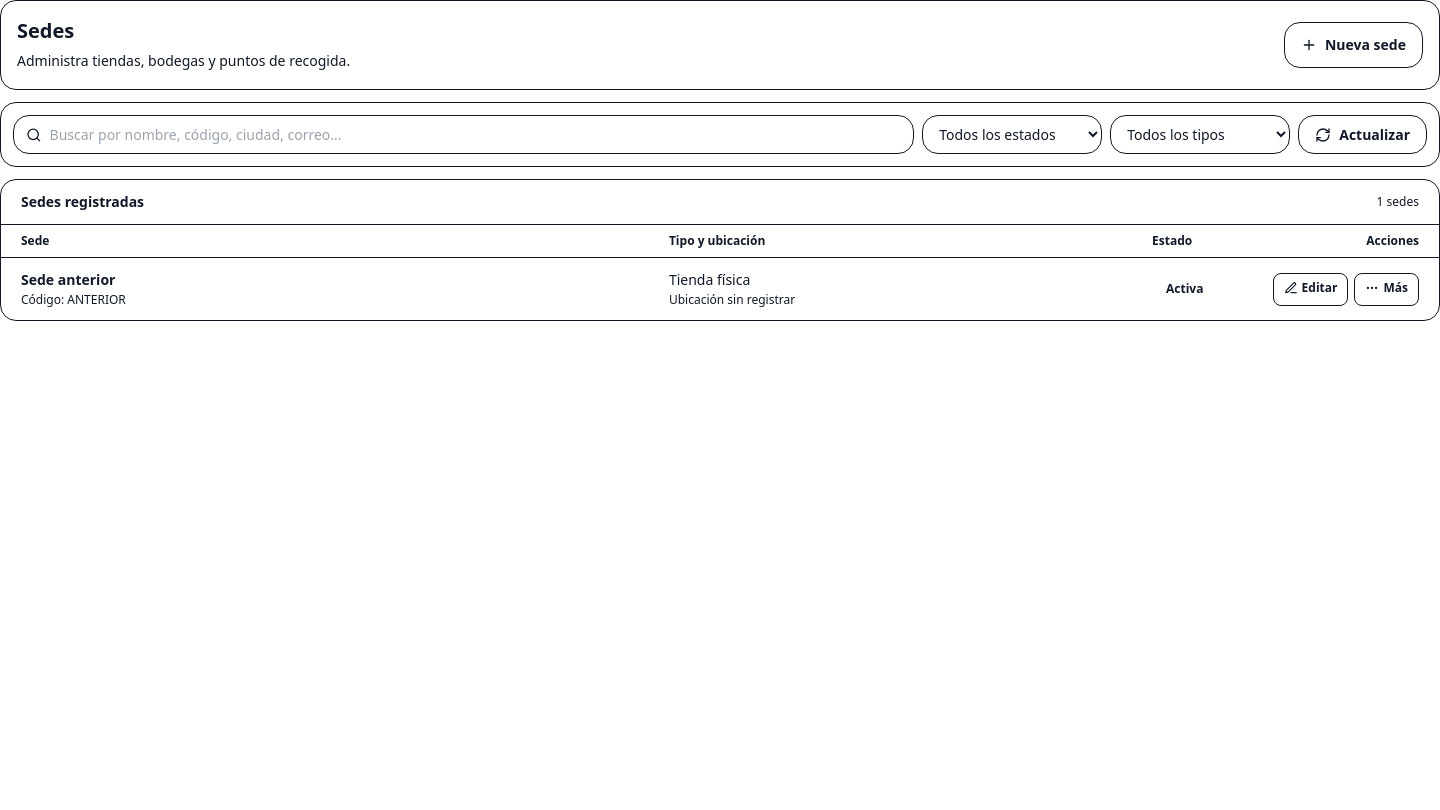
muestra inmediatamente la sede devuelta al guardar y reabre sus datos actualizados
Click the button with aria-label "Editar Sede anterior". click: point(1311, 289)
box: [1273,272,1348,306]
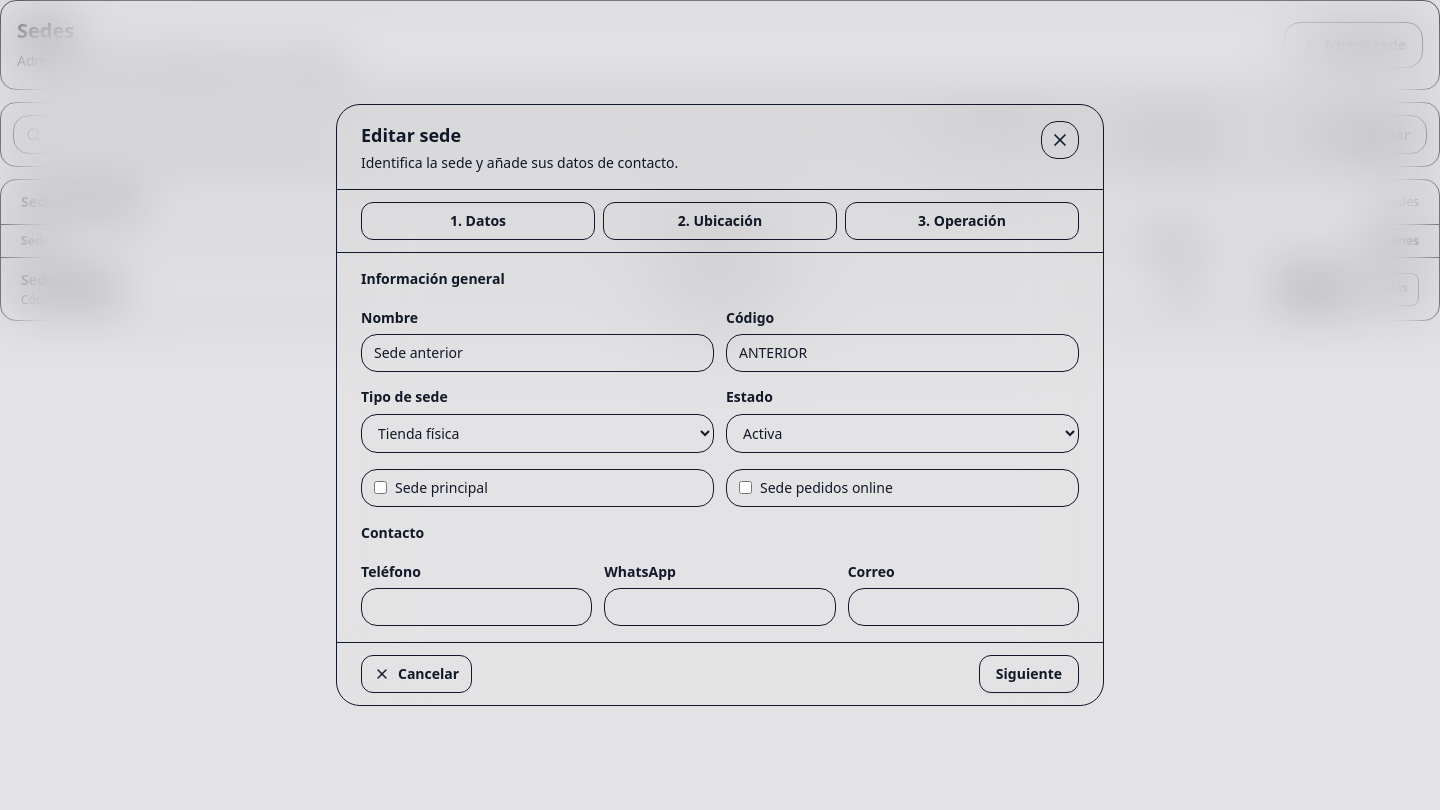
Replace the text in the field labelled "Nombre" with "Sede actualizada". click: point(538, 353)
box: [361,334,714,372]
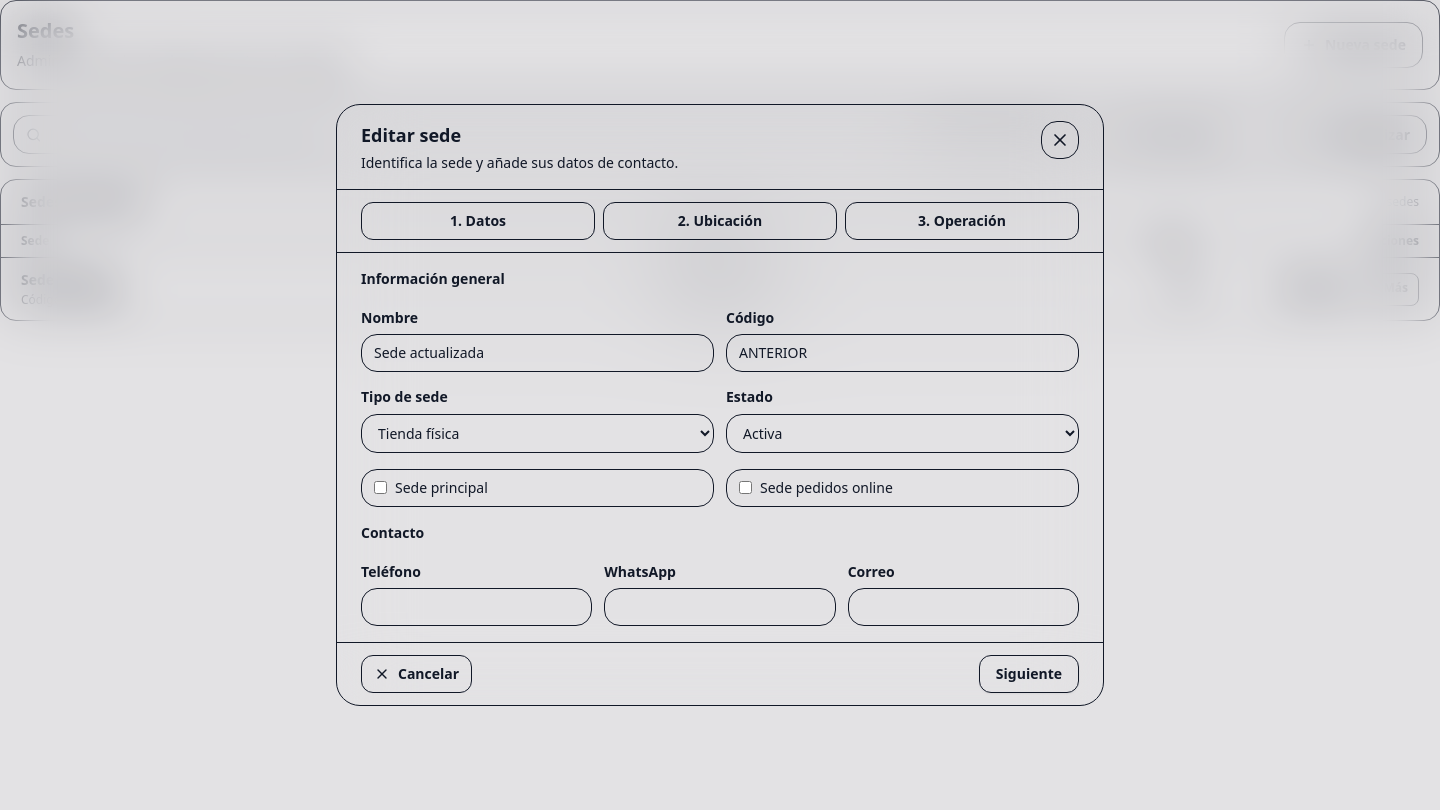
Click the button "3. Operación". click: point(962, 221)
box: [845,202,1079,240]
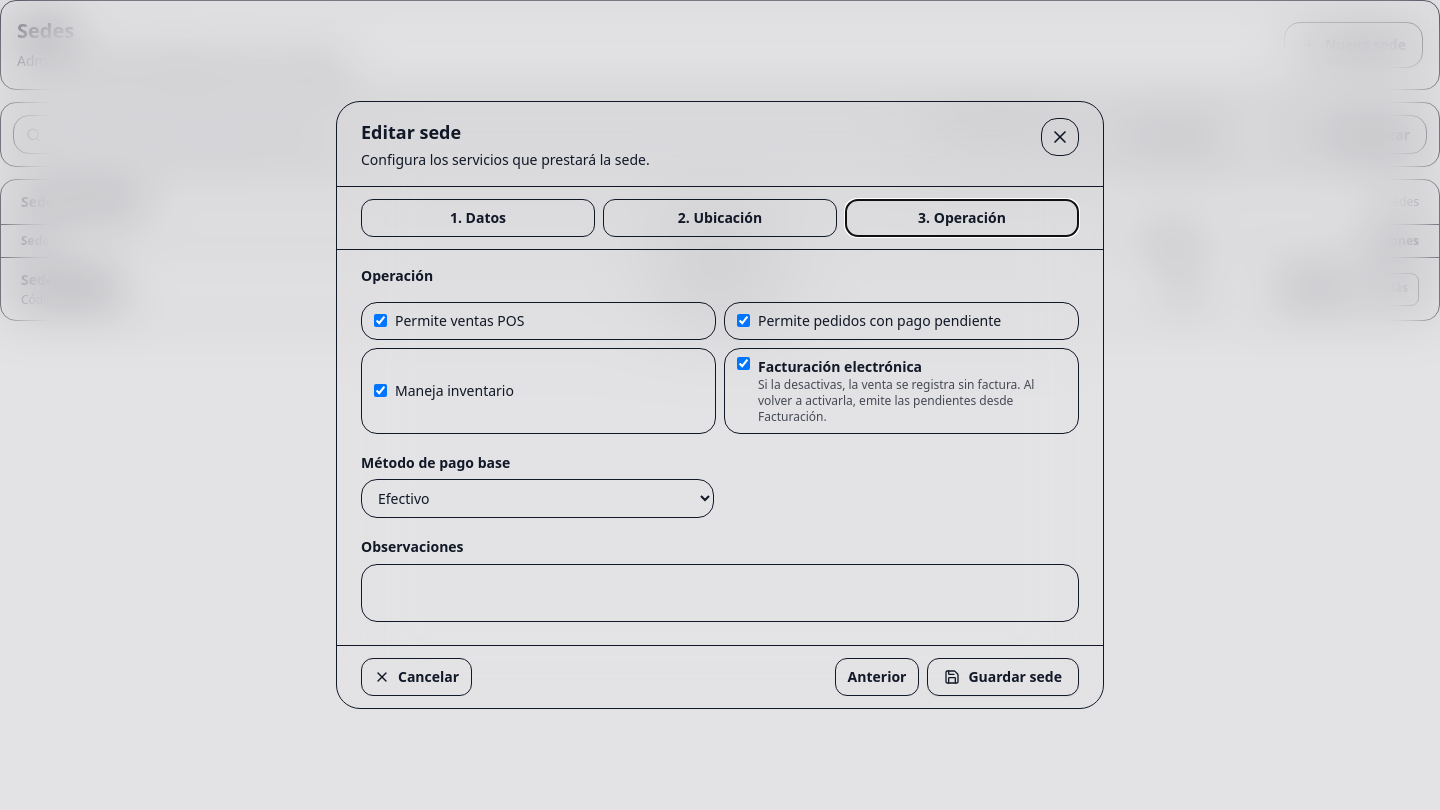
Click the button "Guardar sede". click: point(1003, 677)
box: [927,658,1079,696]
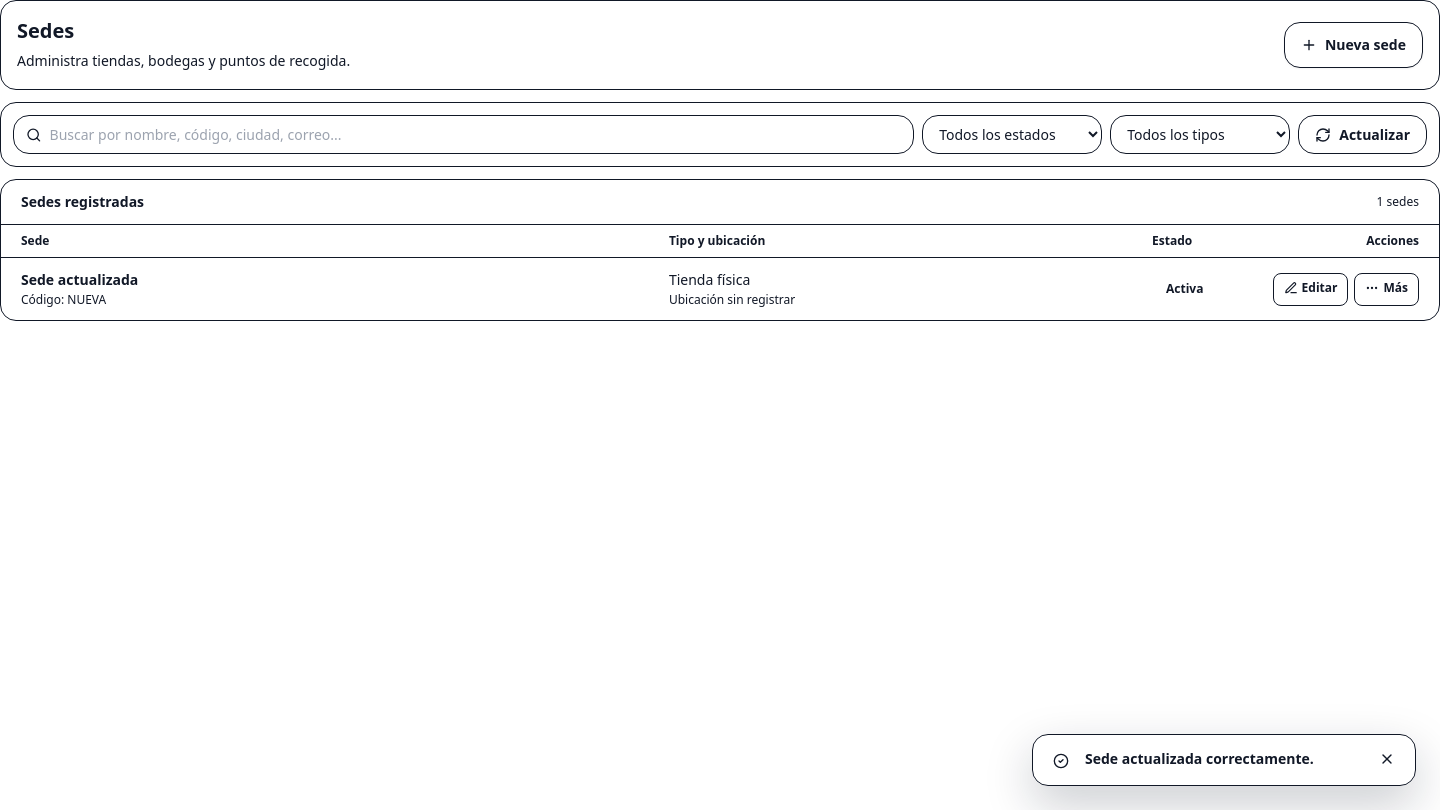
Result: the button with aria-label "Editar Sede actualizada" is shown
Result: the text "Código: NUEVA" is shown at [21,291,106,308]
Result: the message reads "Sede actualizada correctamente." at [1085,749,1314,768]
Click the button with aria-label "Editar Sede actualizada". click: point(1311, 289)
box: [1273,272,1348,306]
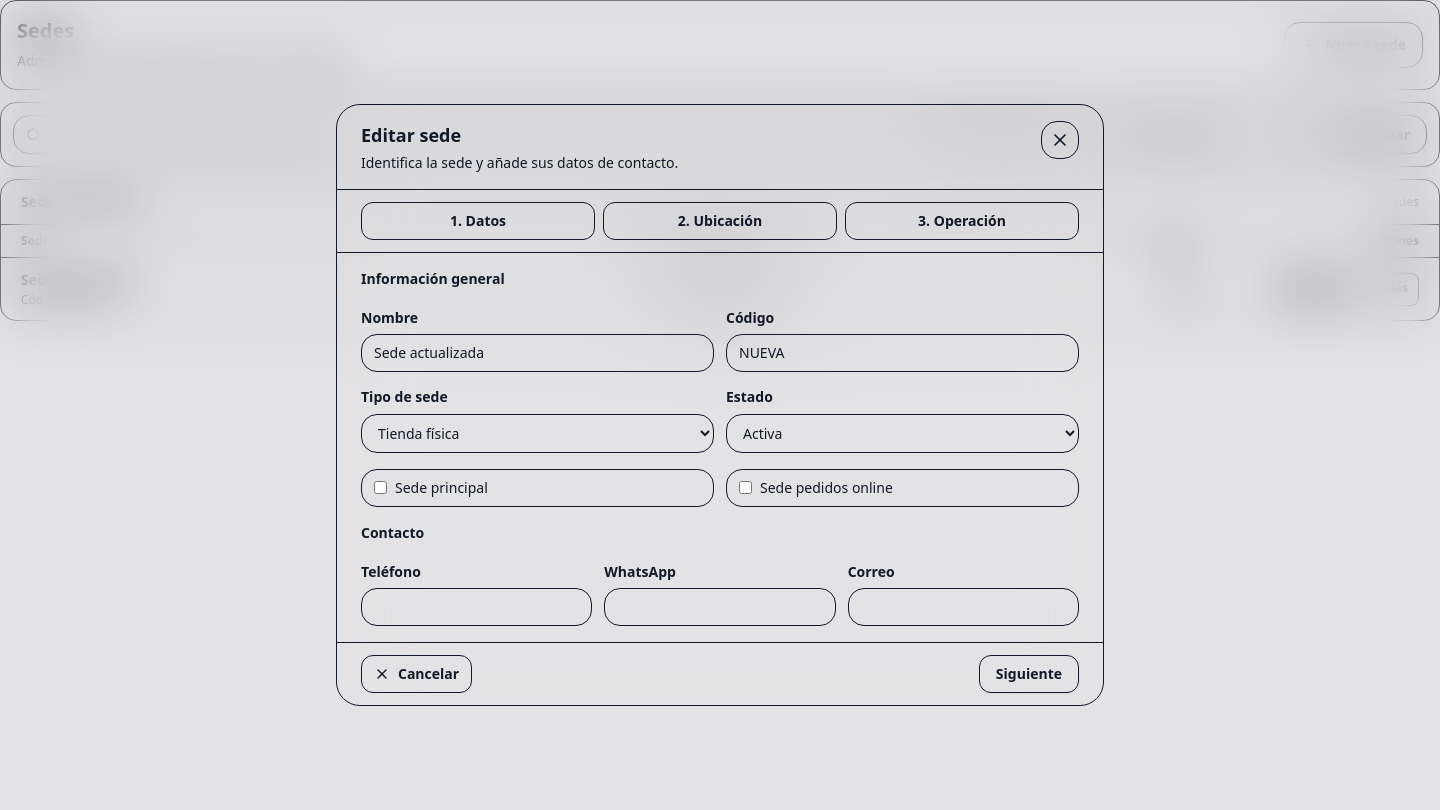
Result: the field labelled "Nombre" holds "Sede actualizada" at [361,334,714,372]
